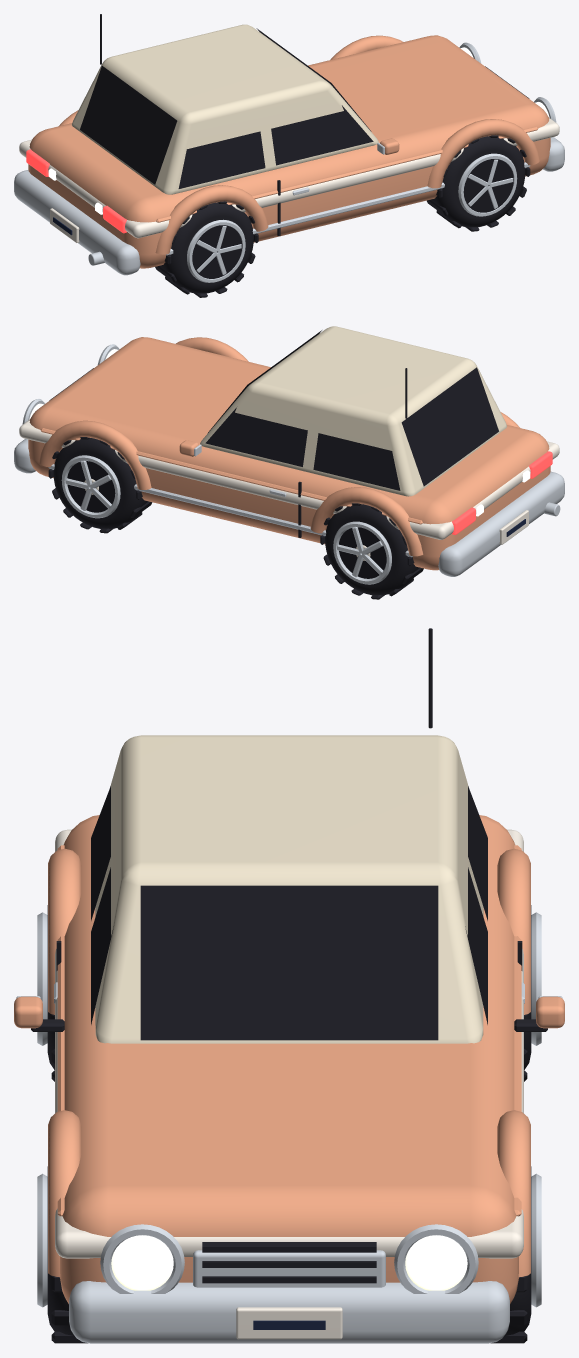
Rendered from car.glb.
3 renders of one model, top to bottom at view 1: azimuth 30°, elevation 25°; view 2: azimuth 150°, elevation 25°; view 3: azimuth 270°, elevation 25°, orthographic. The views are drawn at different scales.
Parts seen in each view (by area): view 1: car; view 2: car; view 3: car.
Boxes of the visible parts, box(x1,y1,x2,y2) form: car: box(14, 14, 564, 297); car: box(14, 326, 564, 599); car: box(14, 628, 564, 1343).
Bounding box in the file's own units: 4.34 × 1.94 × 2.28.
Materials: 1 (1 with a texture image).
